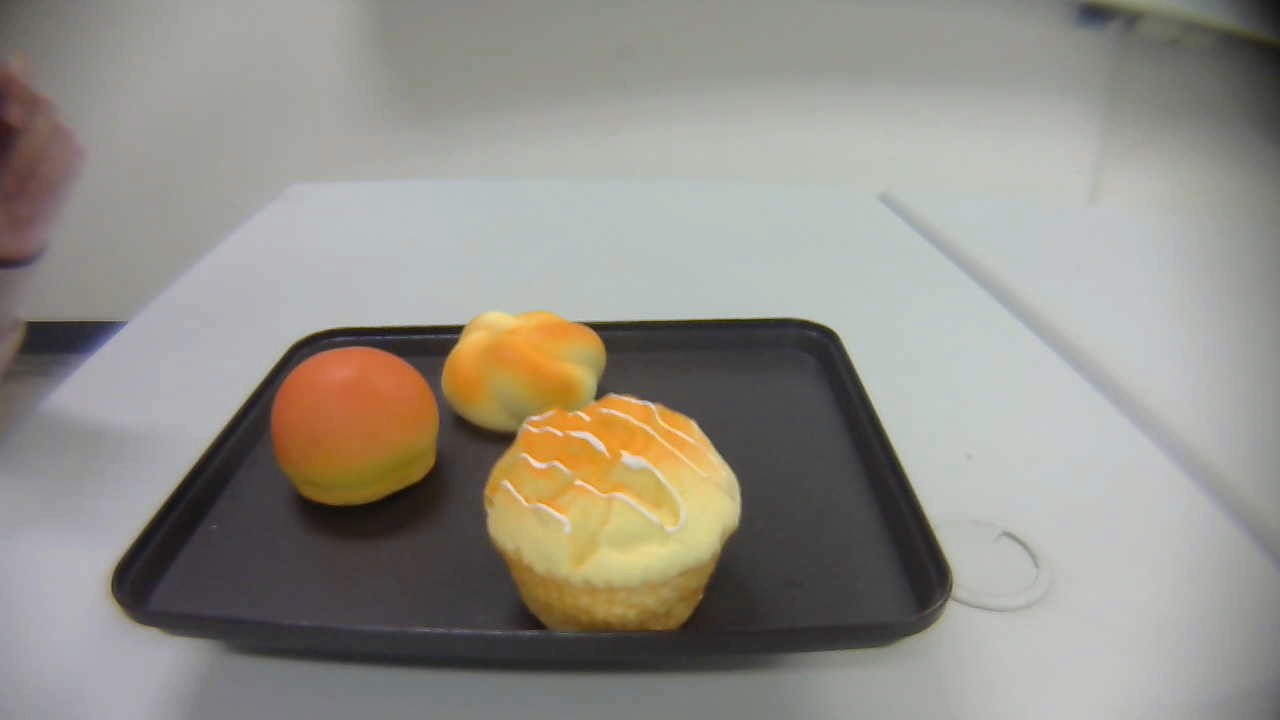bun: (269, 345, 440, 507)
cupcake: (482, 393, 742, 632)
twist bread: (440, 310, 607, 433)
